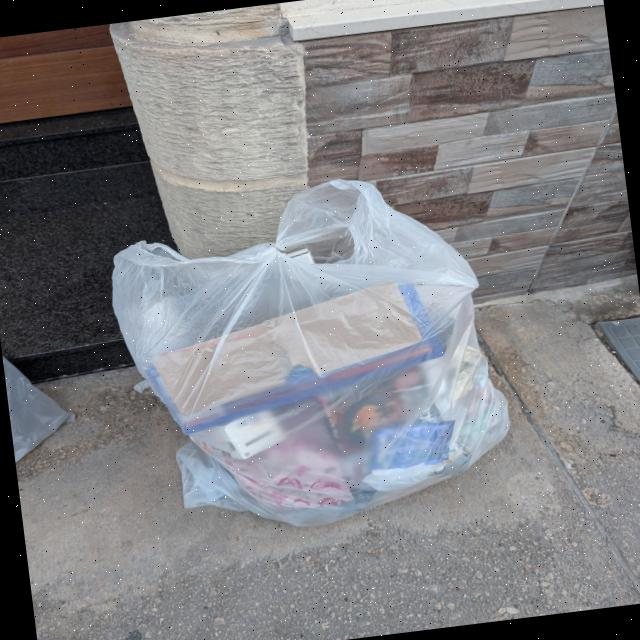Recyclable Material: (101, 161, 522, 551), (2, 347, 83, 463)
